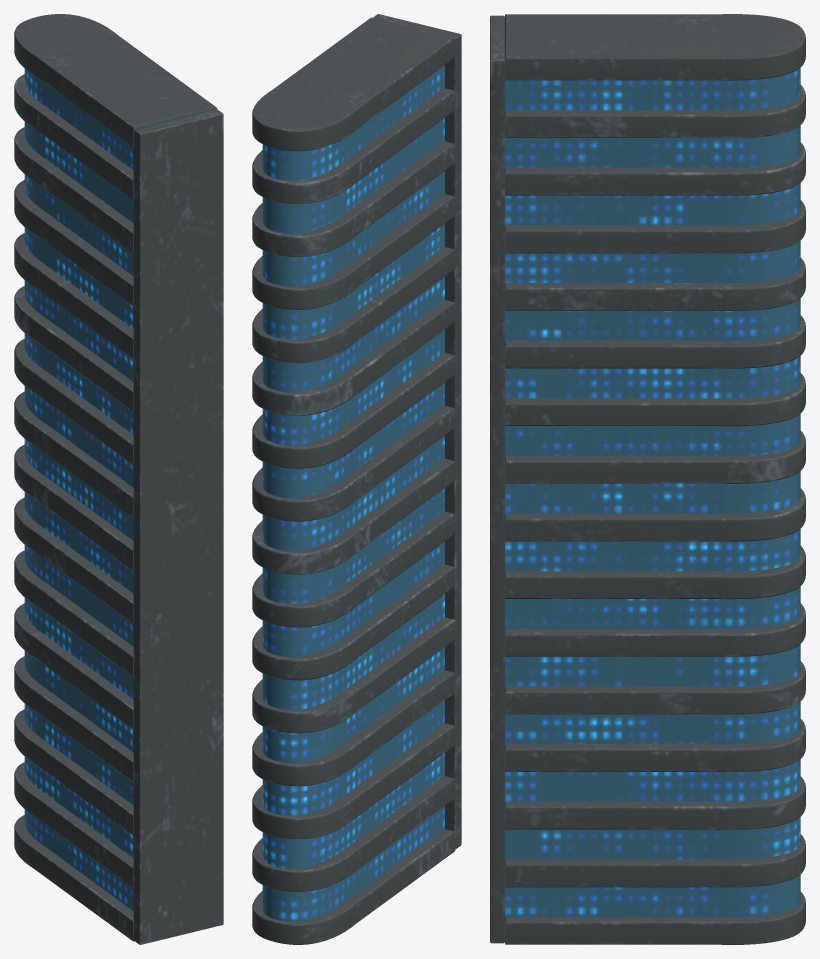
File: sci-fi_building_10.glb
3 views of the same model, side by side, from view 1: azimuth 30°, elevation 25°; view 2: azimuth 150°, elevation 25°; view 3: azimuth 270°, elevation 25° (orthographic). The views are drawn at different scales.
Parts seen in each view (by area): view 1: Sci_fi_building; view 2: Sci_fi_building; view 3: Sci_fi_building.
Part boxes in pixels (x1,y1,x2,y2): Sci_fi_building: (14,14,223,944); Sci_fi_building: (252,14,461,944); Sci_fi_building: (490,14,805,944).
Bounding box in the file's own units: 25.21 × 231 × 74.5.
1 material, 1 textured.
